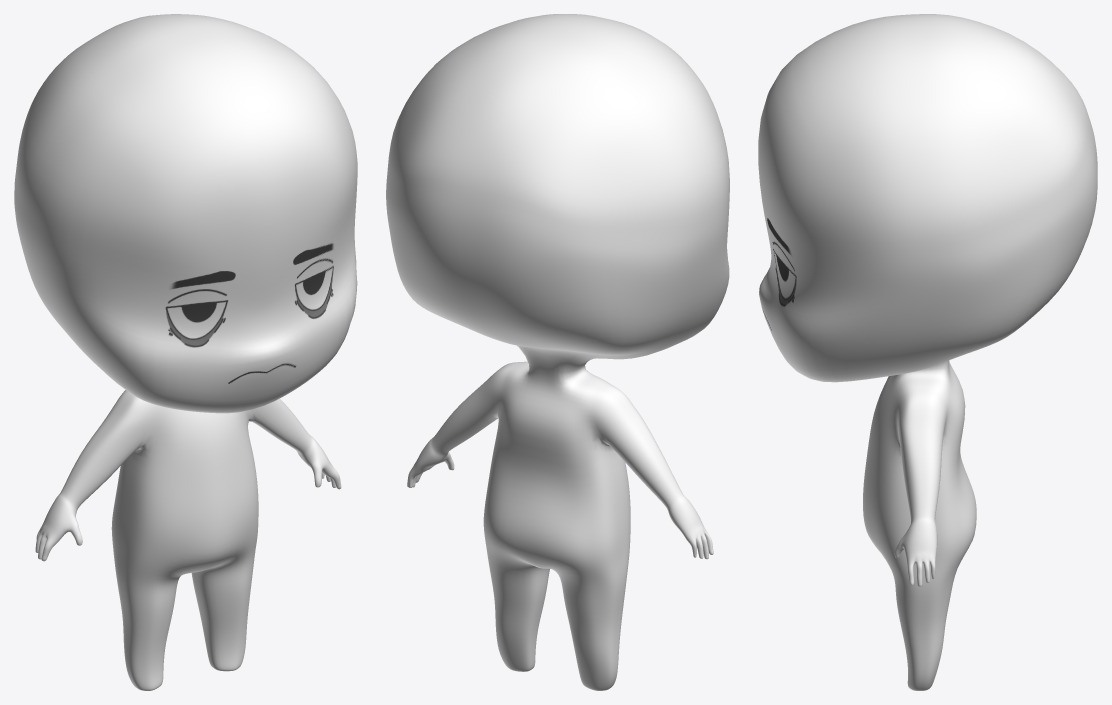
File: FULL MODEL RIGGED 4_29 f2.fbx
3 renders of one model, left to right at view 1: azimuth 30°, elevation 25°; view 2: azimuth 150°, elevation 25°; view 3: azimuth 270°, elevation 25°, orthographic.
Visible parts, largest first — view 1: Cube; view 2: Cube; view 3: Cube.
Boxes of the visible parts, x1,y1,x2,y2 form: Cube: (14,14,357,690); Cube: (386,14,729,690); Cube: (758,14,1097,690).
Size of the model in its own units: 152 by 309 by 149.
